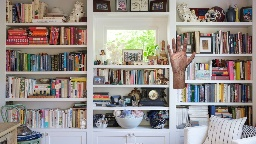Mano_aperta: (165, 34, 196, 72)
